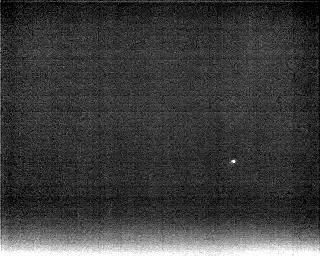BIRD: (229, 156, 238, 167)
